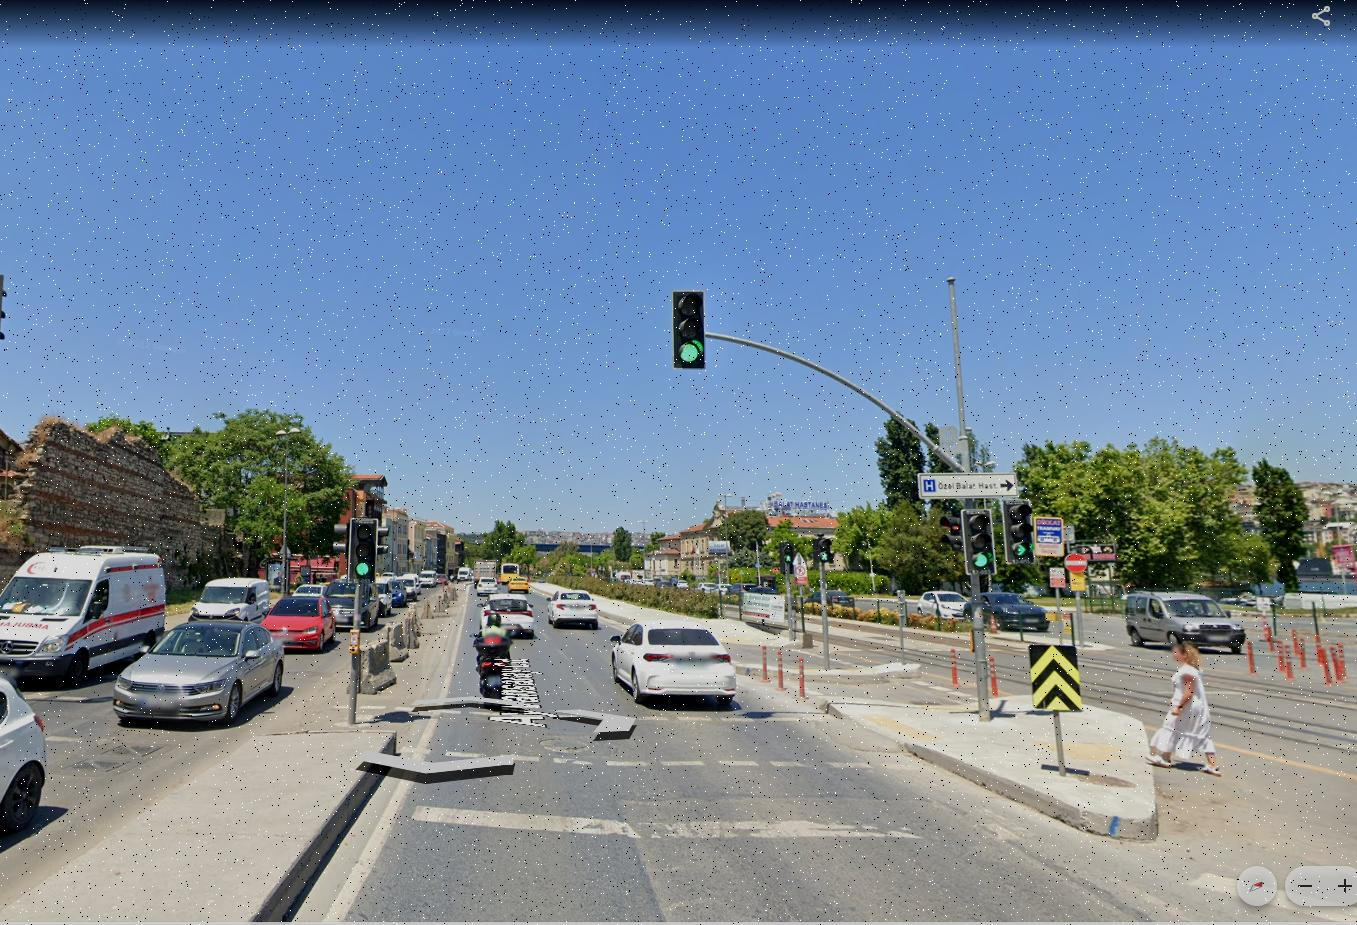greenlight: (675, 289, 701, 368), (1006, 501, 1034, 561), (966, 514, 993, 569), (353, 521, 371, 577)
